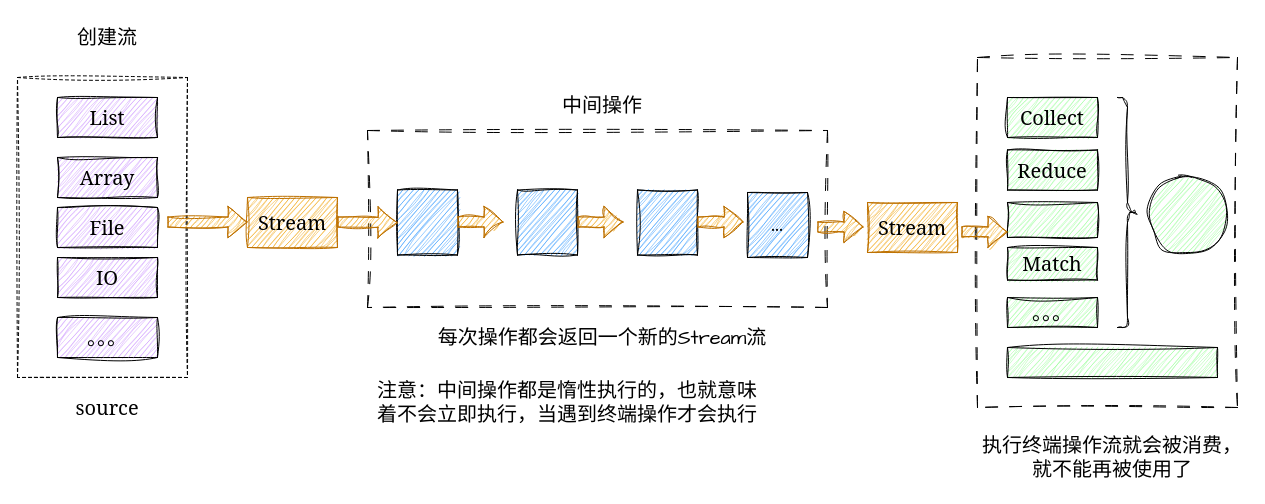
This 1265x504 diagram has some shape labels left out. The shapes that lost their labels are listed below. From the top down, each one's centre as x and y in pixels, then its label:
point (427, 222): Filter
point (547, 222): Map
point (667, 222): Sort
point (1052, 220): Count
point (1188, 214): Result
point (1112, 362): foreach
